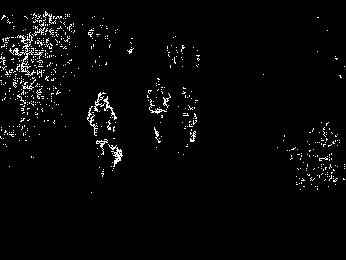person: (86, 90, 123, 177), (145, 76, 170, 146), (177, 85, 200, 146)
